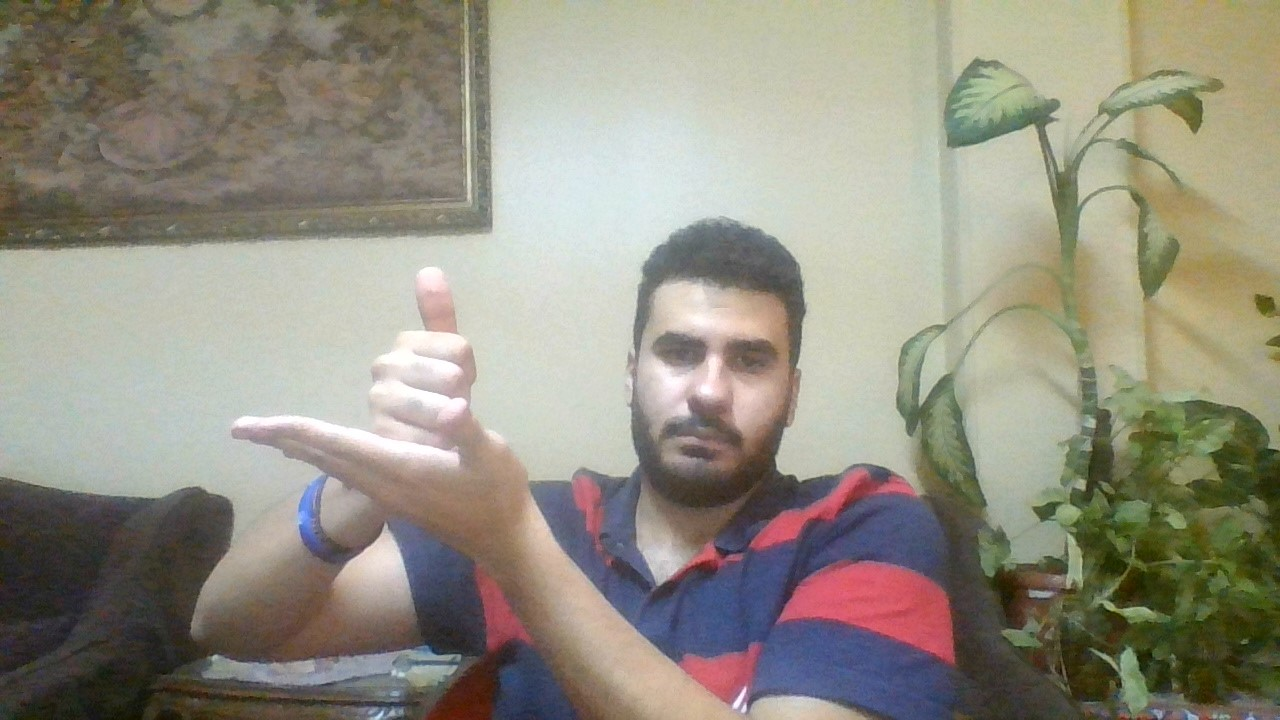help: (241, 239, 530, 526)
